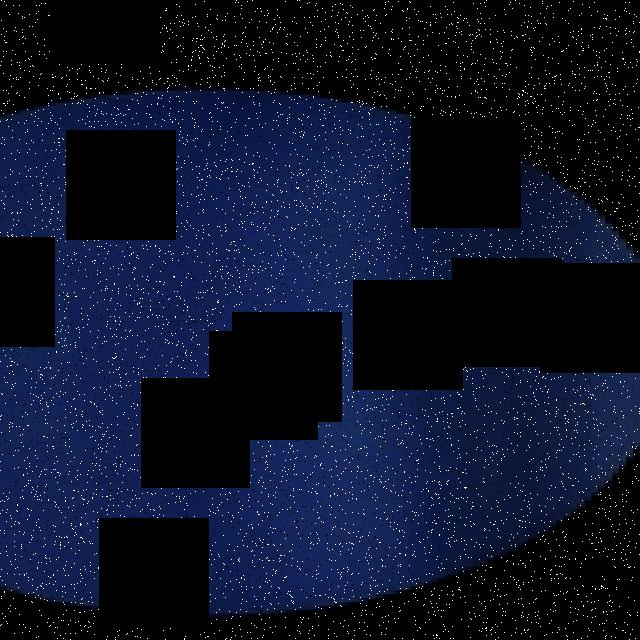Neptune: (0, 86, 640, 613)
